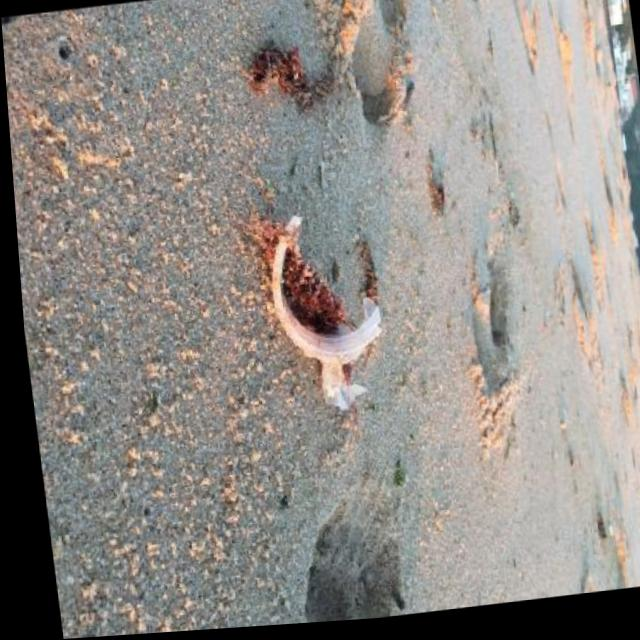plastic: (261, 200, 394, 419)
